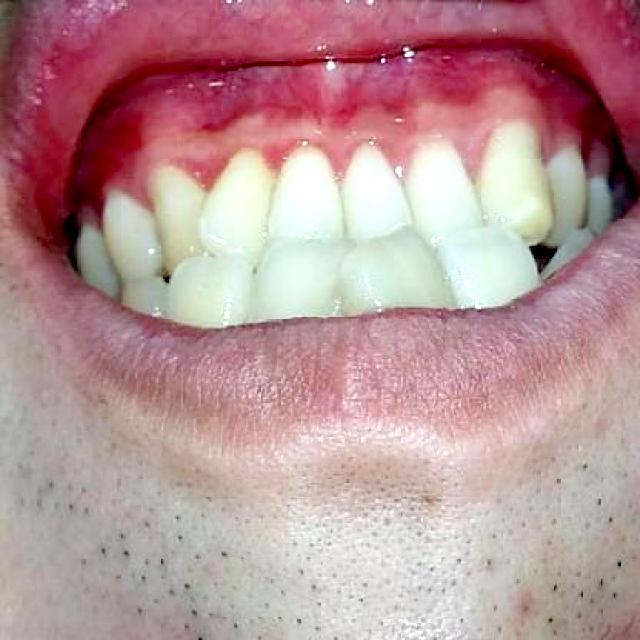Plaque: (171, 93, 574, 194)
